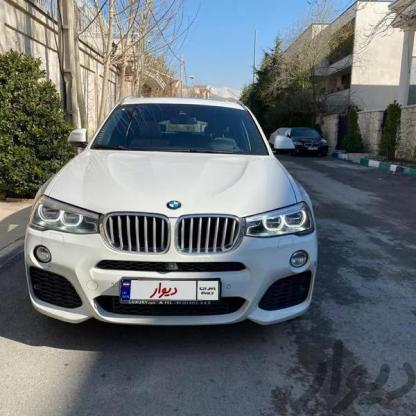Car: (21, 94, 321, 336), (279, 119, 357, 164)
